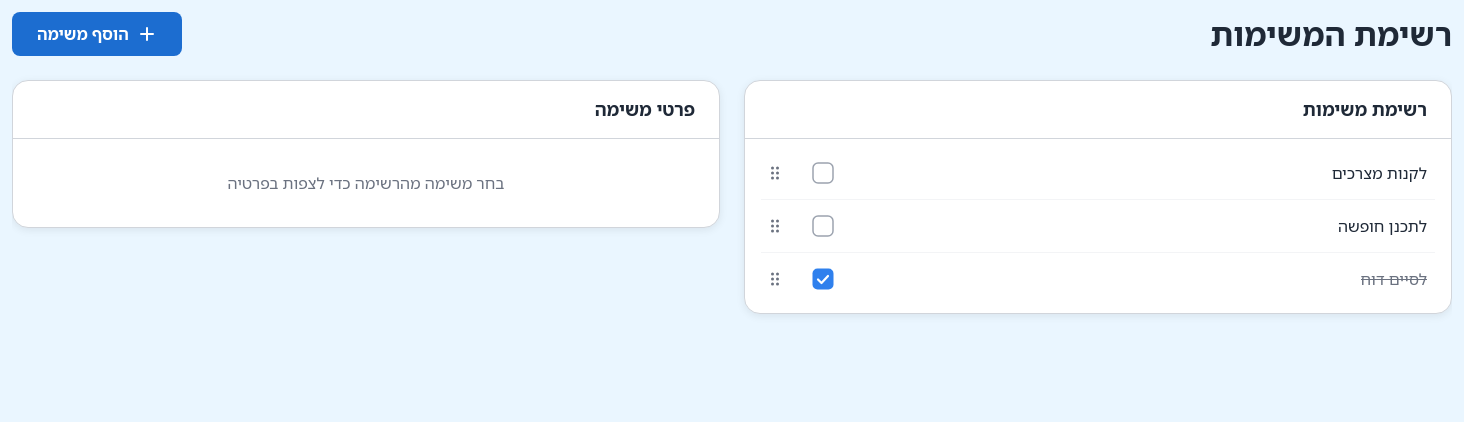
Scenario: HomePage – status › puts the checkbox back and shows a message after a server error
The image size is (1464, 422).
Click the checkbox named "לסיים דוח".
click(823, 279)  # box [801,257,845,301]
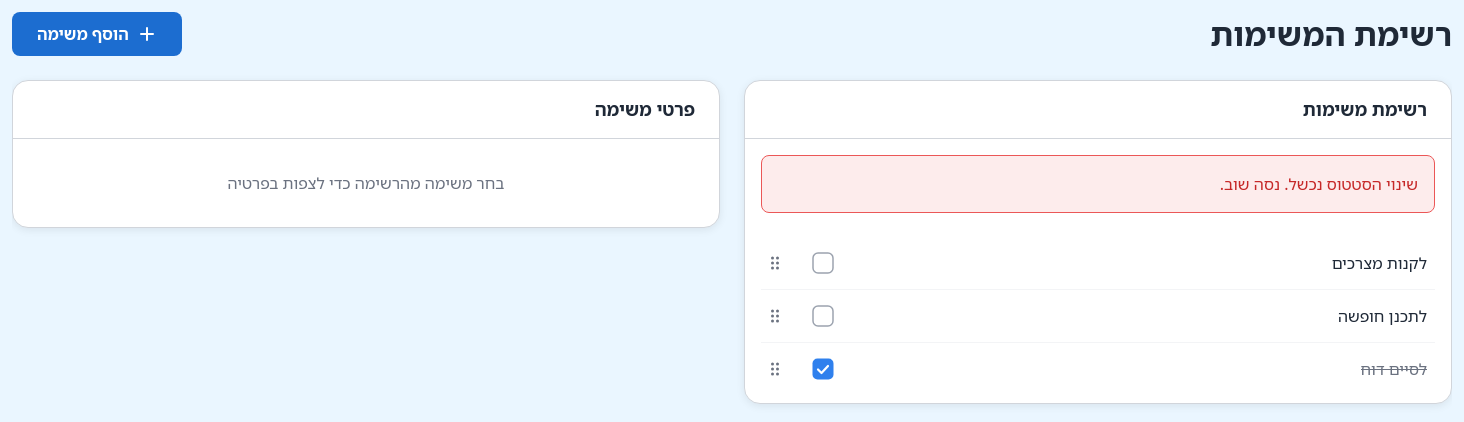
Check: the checkbox named "לסיים דוח" is checked, box [801,347,845,391]
Check: the text "שינוי הסטטוס נכשל. נסה שוב." is shown, box [1220,172,1418,196]
